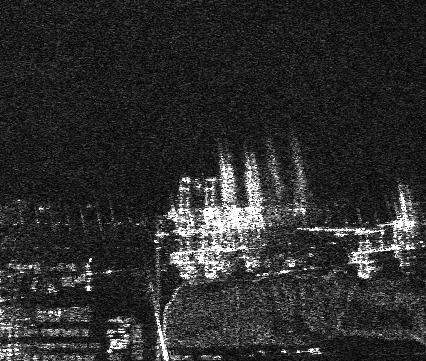ship: (165, 202, 316, 237)
